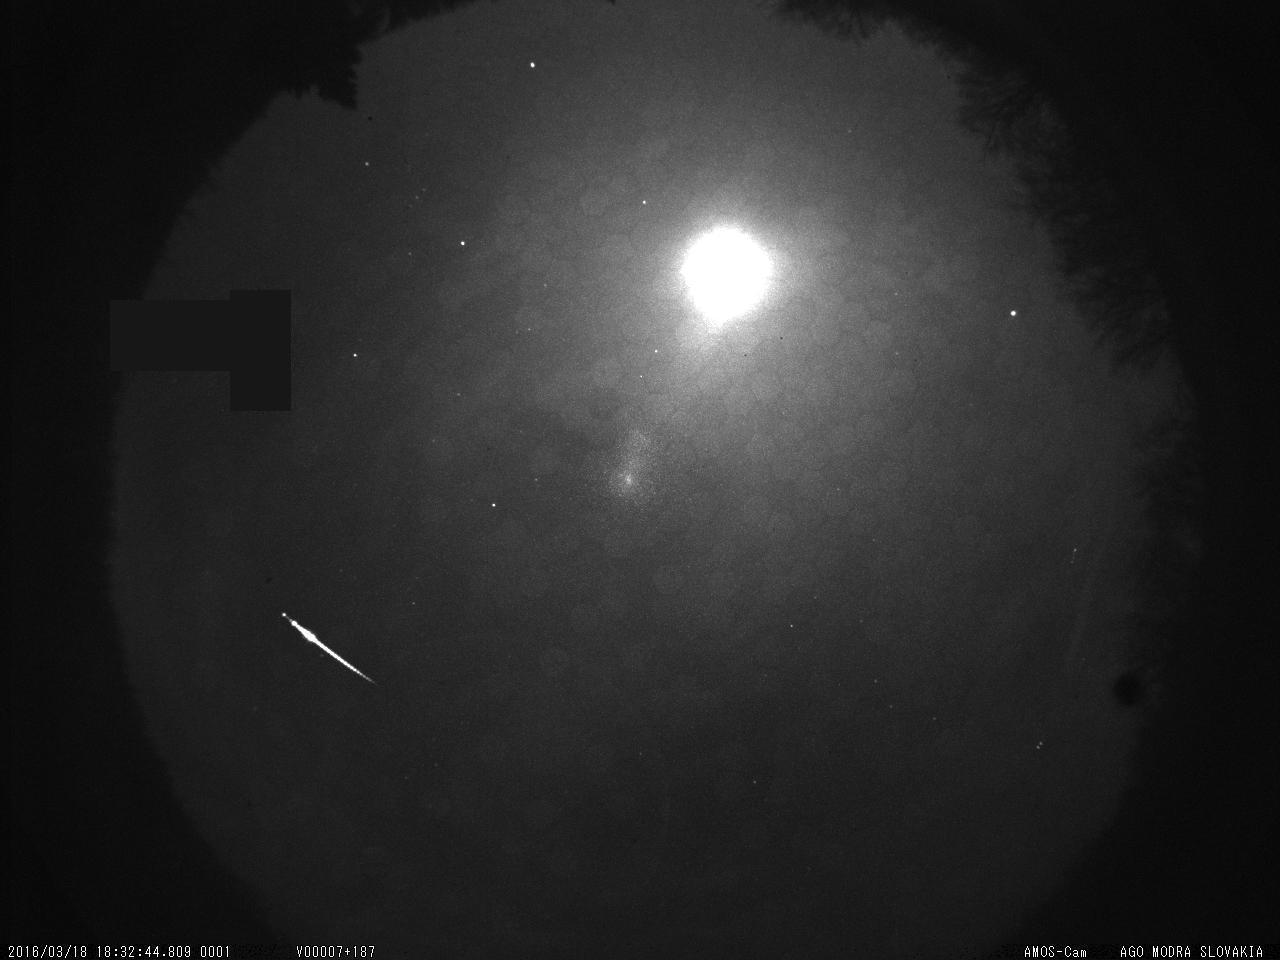Meteor: (279, 610, 377, 687)
